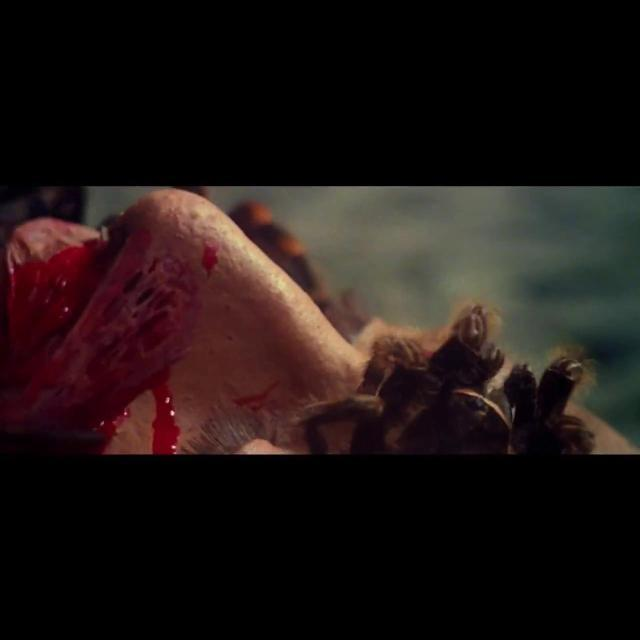blood: (0, 198, 200, 454)
